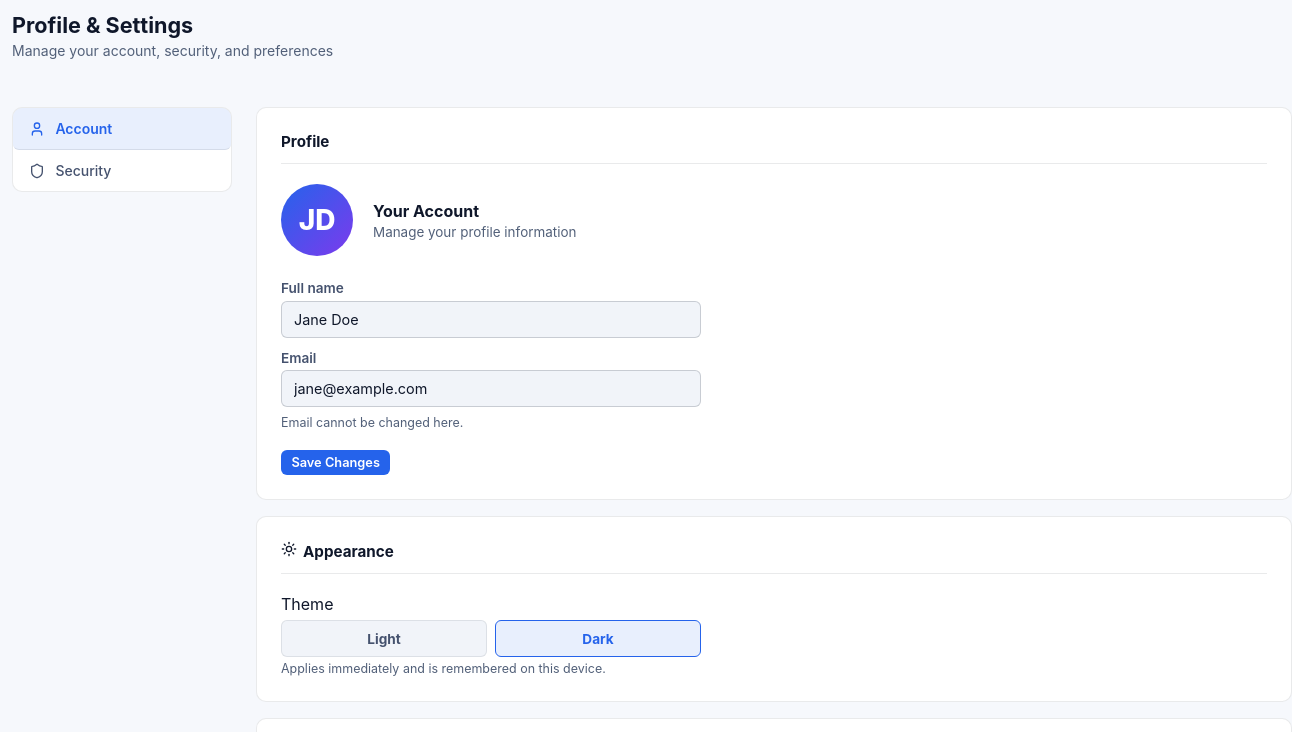
Scenario: ProfilePage › Preferences (Account tab) › switches the theme and shows success feedback
Click the radio button labelled "Light" at (384, 638), box left=281, top=620, right=487, bottom=657
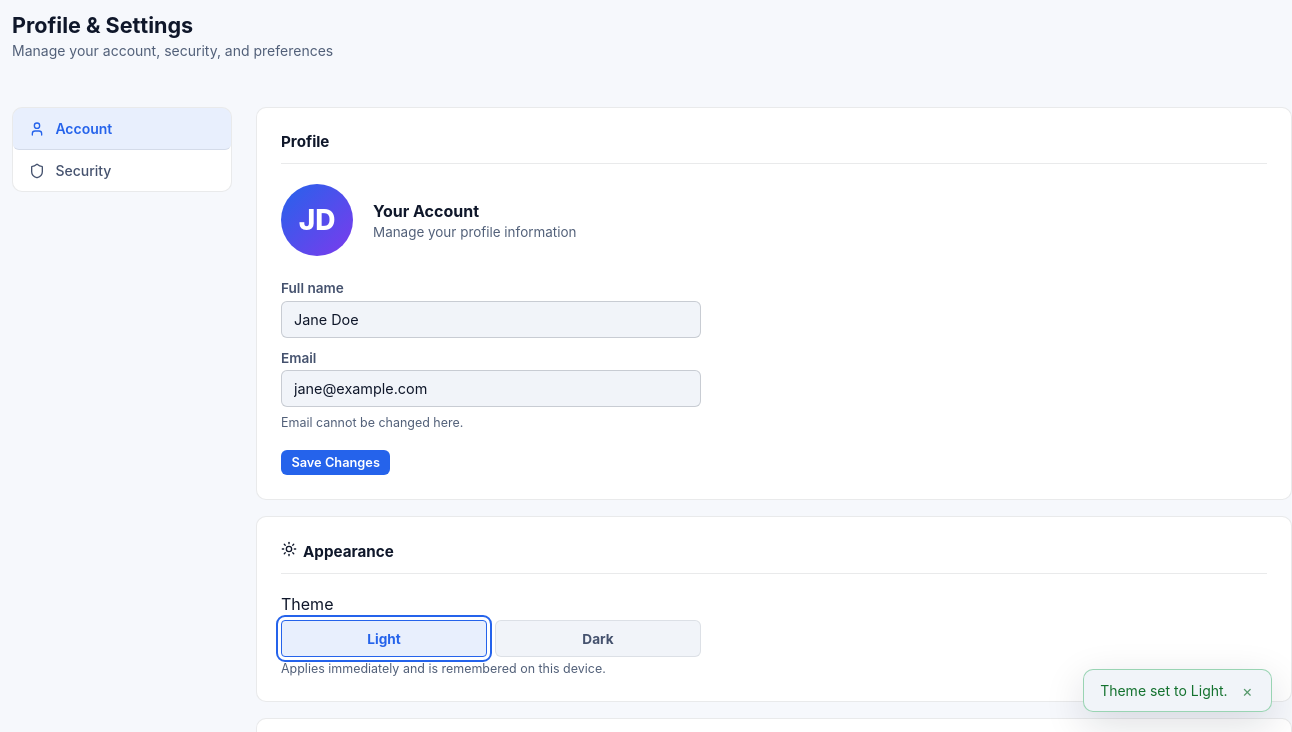
Now the text "Theme set to Light." is shown, box left=1100, top=682, right=1228, bottom=699
